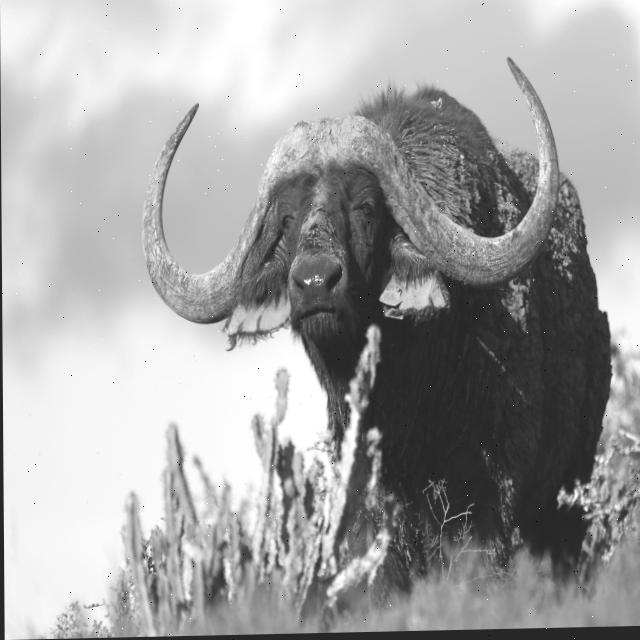Buffalo: (140, 53, 614, 562)
